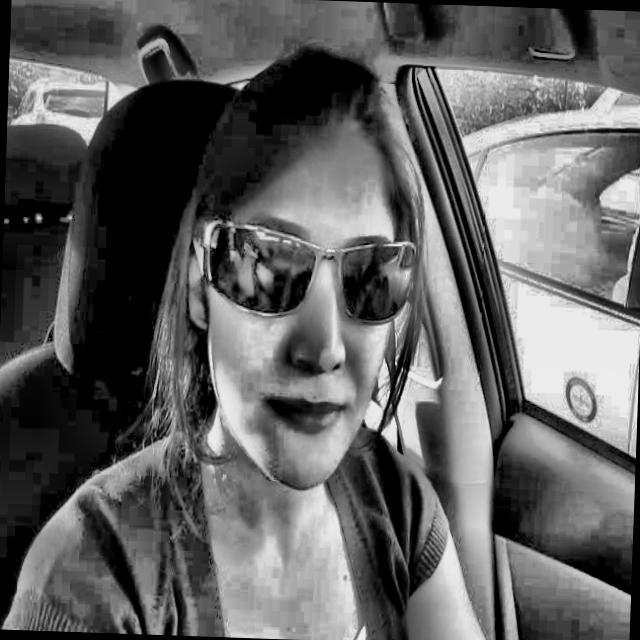closed_mouth: (247, 375, 372, 457)
